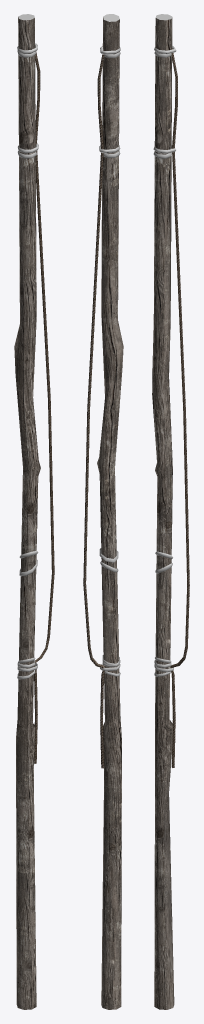
Rendered from Mast.fbx.
3 views of the same model, side by side, from view 1: azimuth 30°, elevation 25°; view 2: azimuth 210°, elevation 25°; view 3: azimuth 330°, elevation 25° (orthographic).
Parts seen in each view (by area): view 1: polySurface1421; view 2: polySurface1421; view 3: polySurface1421.
Boxes of the visible parts, left/top/right/bottom form: polySurface1421: left=14, top=14, right=54, bottom=1009; polySurface1421: left=83, top=14, right=123, bottom=1009; polySurface1421: left=152, top=14, right=189, bottom=1009.
Bounding box in the file's own units: 0.8211 × 20.29 × 0.5023.
